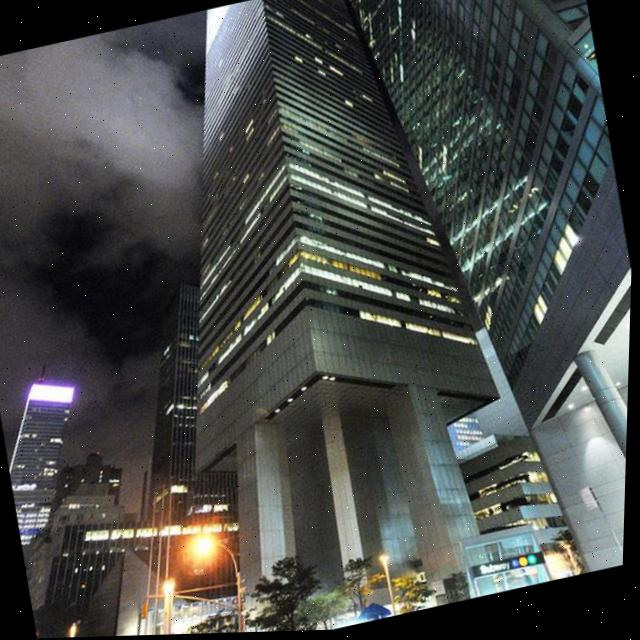building: (105, 0, 553, 636), (325, 0, 640, 608), (94, 261, 275, 618), (0, 350, 101, 541)
